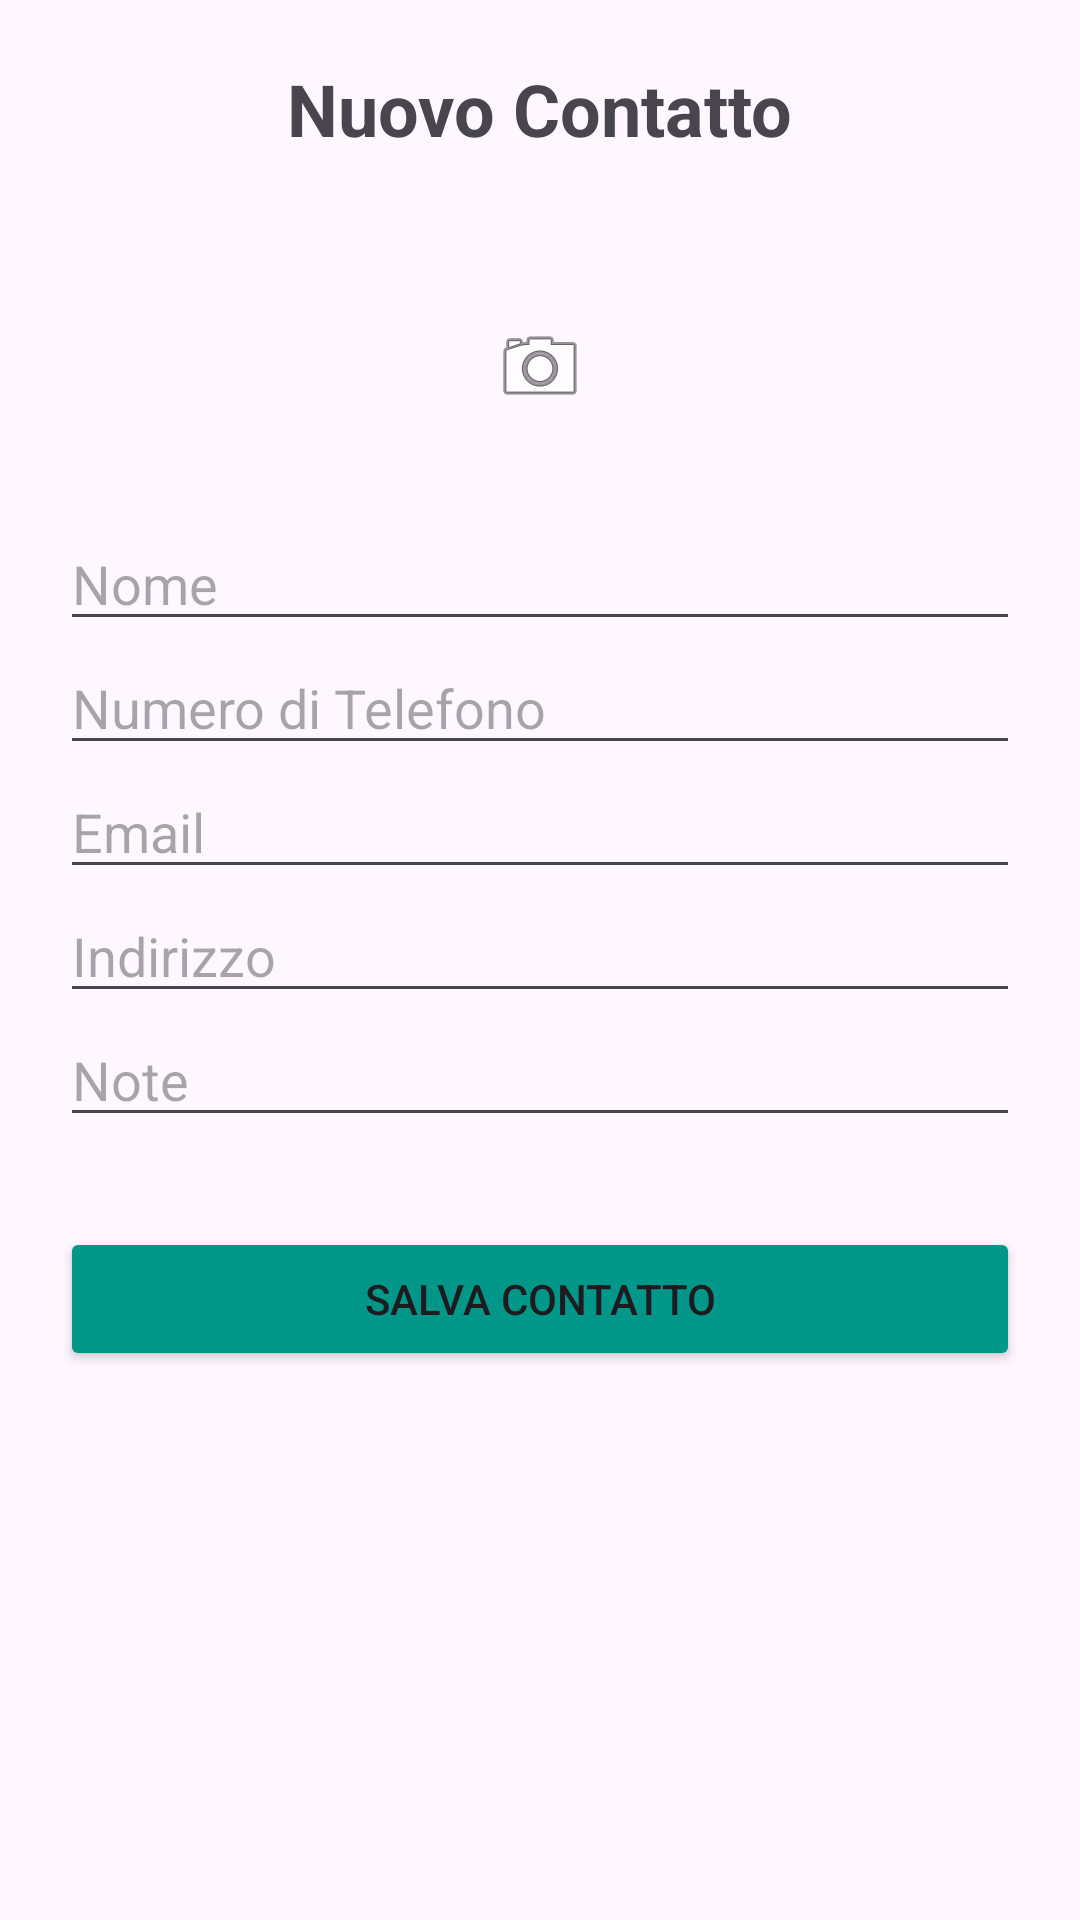

Named icons in this screenshot (1080px×1920px) and their centers, [x,y]:
Foto Profilo: [540,365]
